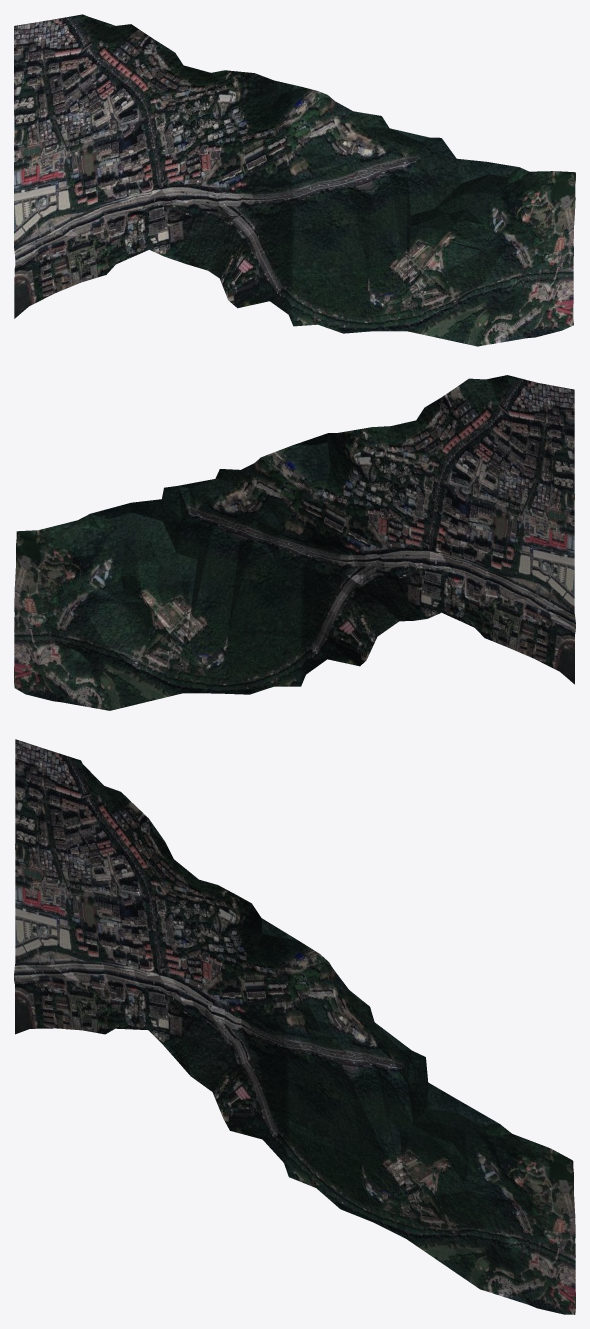
3 renders of one model, top to bottom at view 1: azimuth 30°, elevation 25°; view 2: azimuth 150°, elevation 25°; view 3: azimuth 330°, elevation 25°, orthographic.
Visible parts, largest first — view 1: 0_0_1_2; view 2: 0_0_1_2; view 3: 0_0_1_2.
Boxes of the visible parts, x1,y1,x2,y2 form: 0_0_1_2: [14, 14, 575, 346]; 0_0_1_2: [14, 375, 575, 710]; 0_0_1_2: [14, 739, 575, 1314].
Bounding box in the file's own units: 1945 × 1456 × 113.
Materials: 1 (1 with a texture image).
